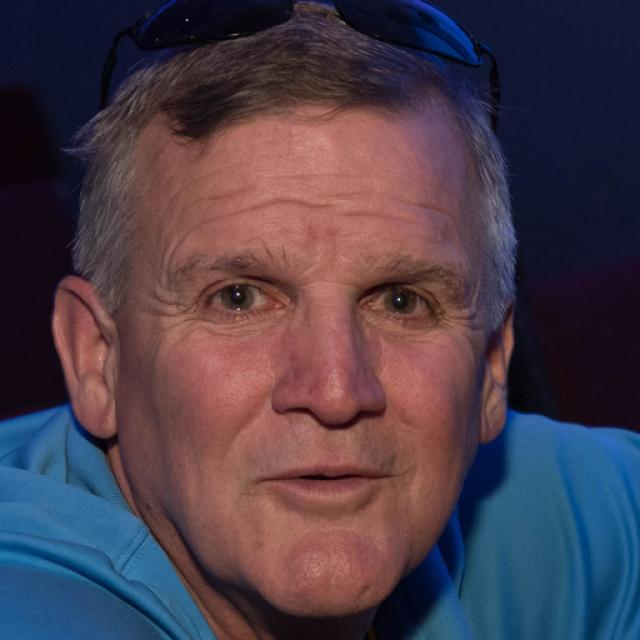Wrinkle: (170, 183, 435, 236)
